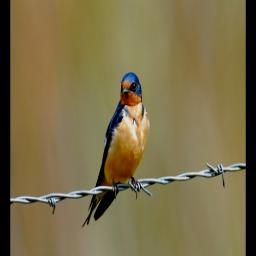Swallow: (82, 71, 151, 228)
